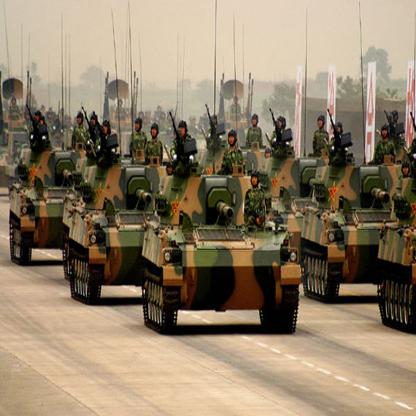Tank: (143, 168, 300, 346), (303, 155, 416, 334), (63, 157, 165, 307)
